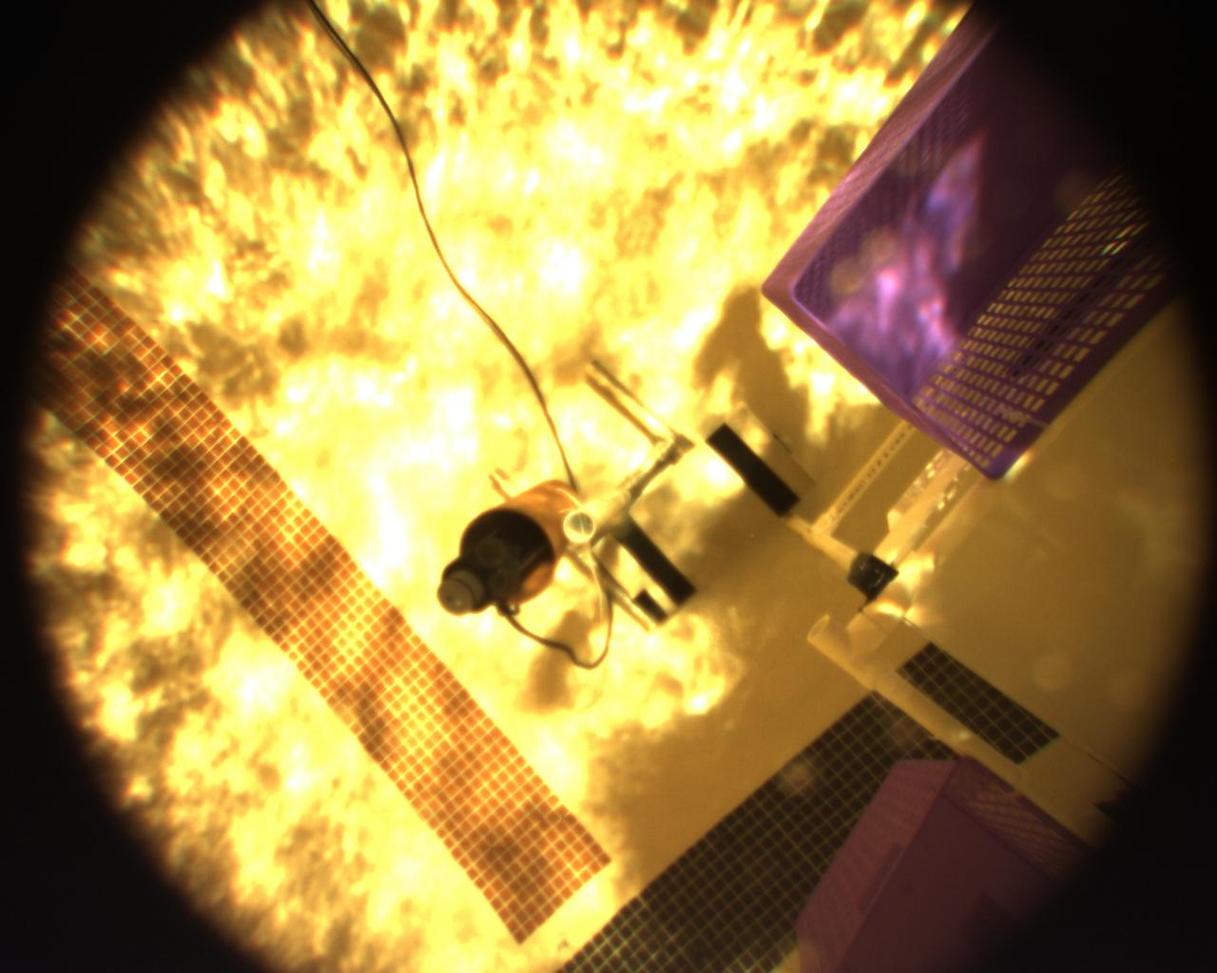coral-box-top: (756, 5, 1197, 485), (781, 743, 1091, 963)
